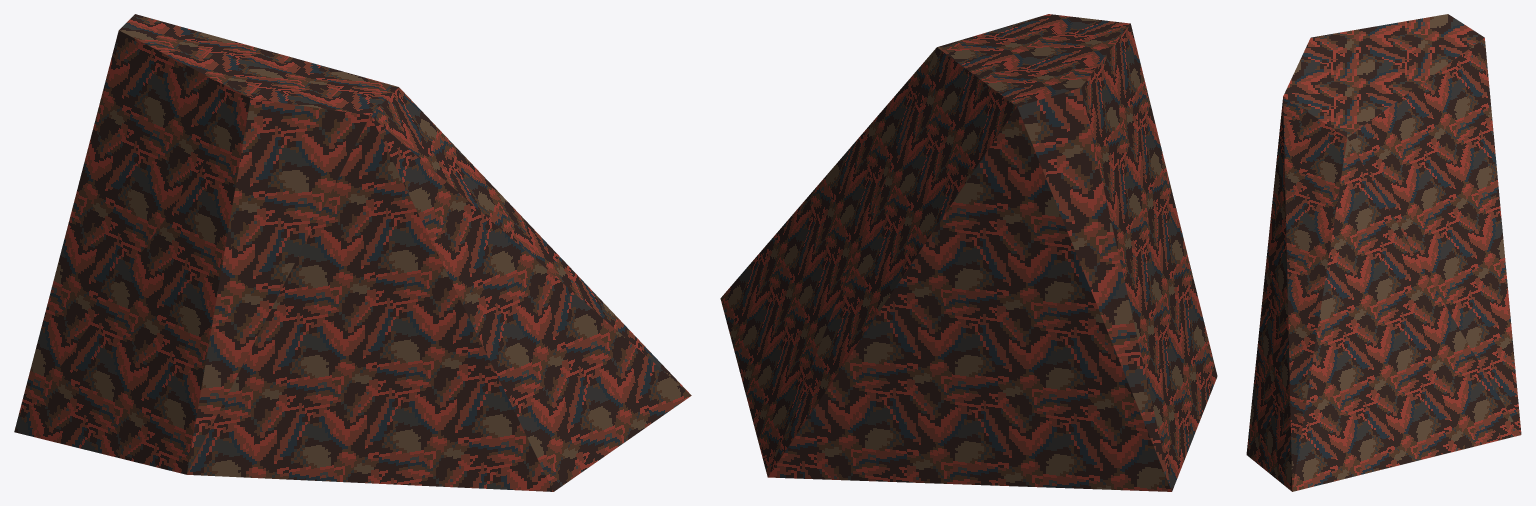
File: Blockade3.fbx
3 renders of one model, left to right at view 1: azimuth 30°, elevation 25°; view 2: azimuth 150°, elevation 25°; view 3: azimuth 270°, elevation 25°, orthographic. The views are drawn at different scales.
Parts seen in each view (by area): view 1: Junk Mesh (1); view 2: Junk Mesh (1); view 3: Junk Mesh (1).
Boxes of the visible parts, x1,y1,x2,y2 form: Junk Mesh (1): (14,14,691,491); Junk Mesh (1): (720,14,1217,491); Junk Mesh (1): (1246,14,1521,491).
Size of the model in its own units: 6.75 by 4.97 by 3.75.
